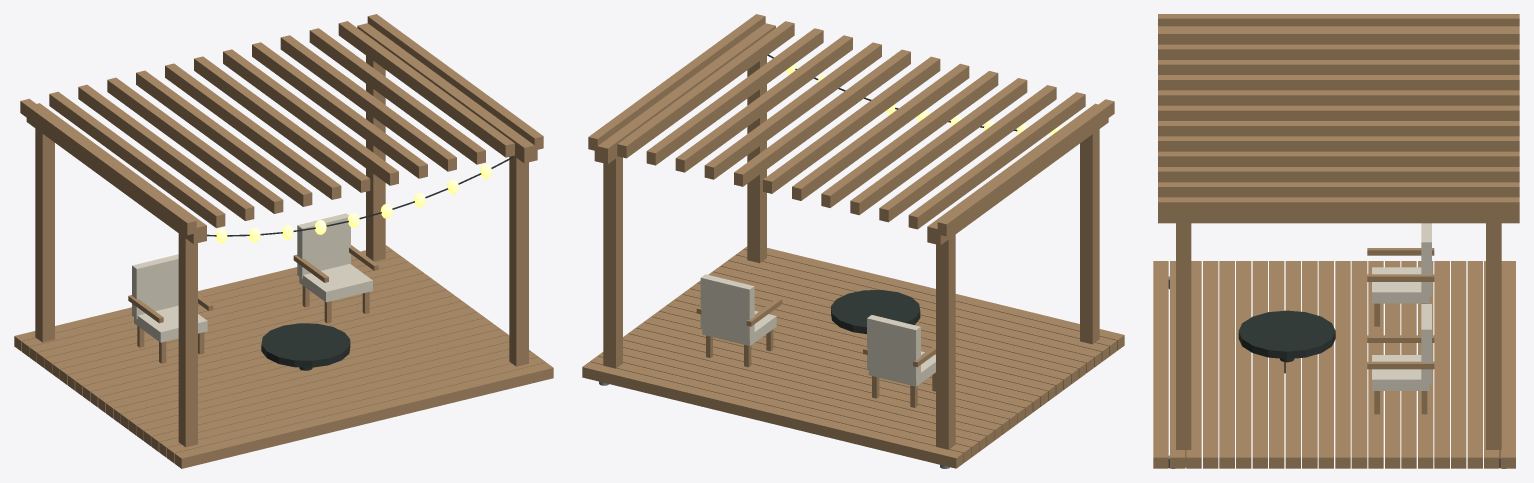
The model's file is pergola.glb.
3 views of the same model, side by side, from view 1: azimuth 30°, elevation 25°; view 2: azimuth 150°, elevation 25°; view 3: azimuth 270°, elevation 25° (orthographic). The views are drawn at different scales.
Parts seen in each view (by area): view 1: pergola_Modrin, pergola_Len, pergola_Antracit, pergola_Teple svetlo; view 2: pergola_Modrin, pergola_Len, pergola_Antracit; view 3: pergola_Modrin, pergola_Len, pergola_Antracit.
Boxes of the visible parts, x1,y1,x2,y2 form: pergola_Modrin: [14, 14, 553, 468]; pergola_Len: [132, 213, 372, 342]; pergola_Antracit: [207, 156, 512, 370]; pergola_Teple svetlo: [215, 164, 491, 243]; pergola_Modrin: [582, 14, 1124, 468]; pergola_Len: [700, 274, 935, 386]; pergola_Antracit: [767, 54, 1017, 334]; pergola_Modrin: [1153, 14, 1519, 468]; pergola_Len: [1372, 223, 1431, 390]; pergola_Antracit: [1238, 310, 1335, 373].
Bounding box in the file's own units: 4.5 × 2.87 × 3.54.
